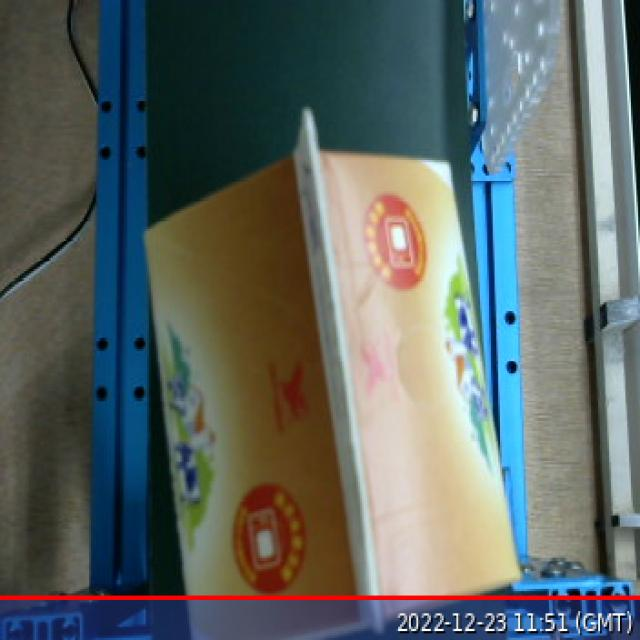non_white_jug: (123, 104, 541, 640)
